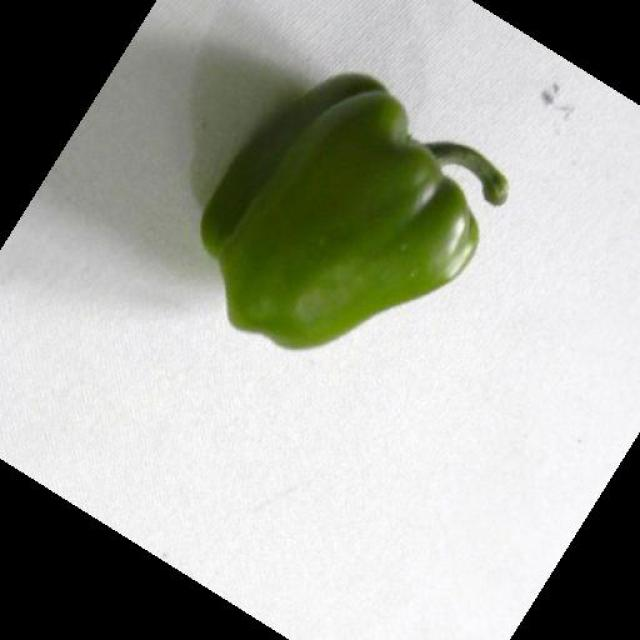Fresh_Capsicum: (202, 66, 501, 362)
